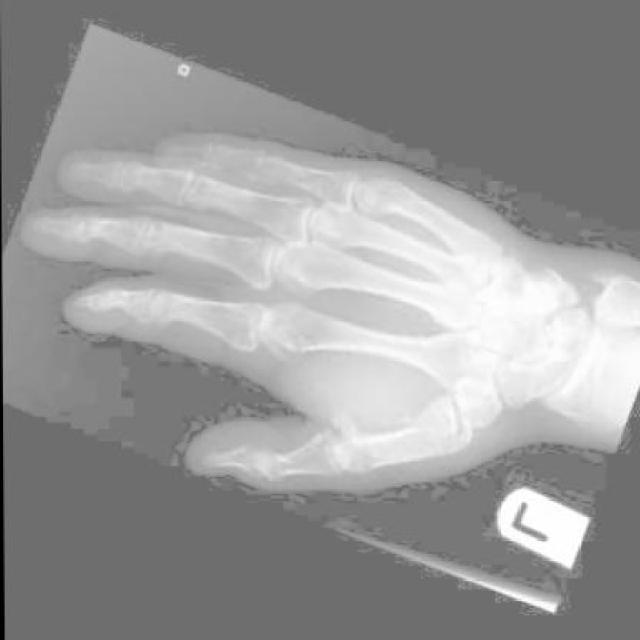Fracture: (395, 393, 462, 450)
